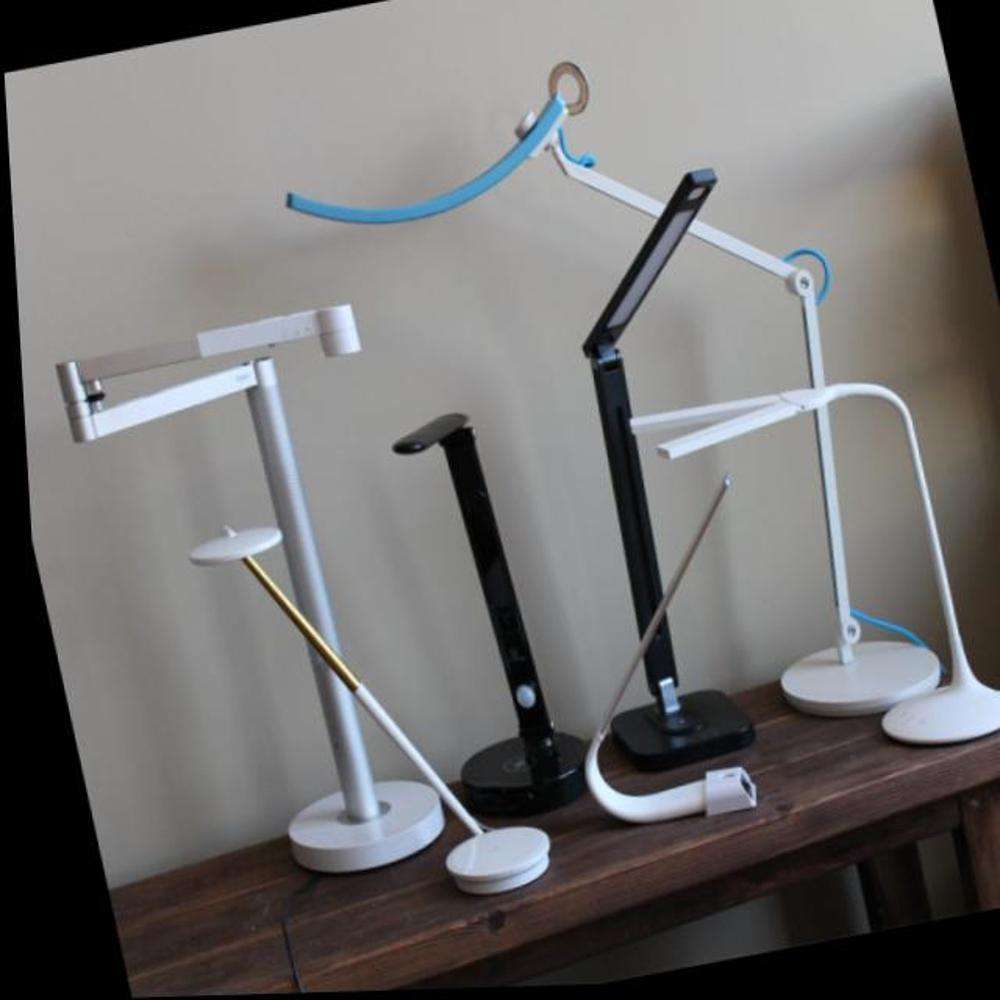shelf: (26, 286, 456, 910), (480, 127, 839, 793), (615, 339, 1000, 799), (375, 390, 592, 820)
